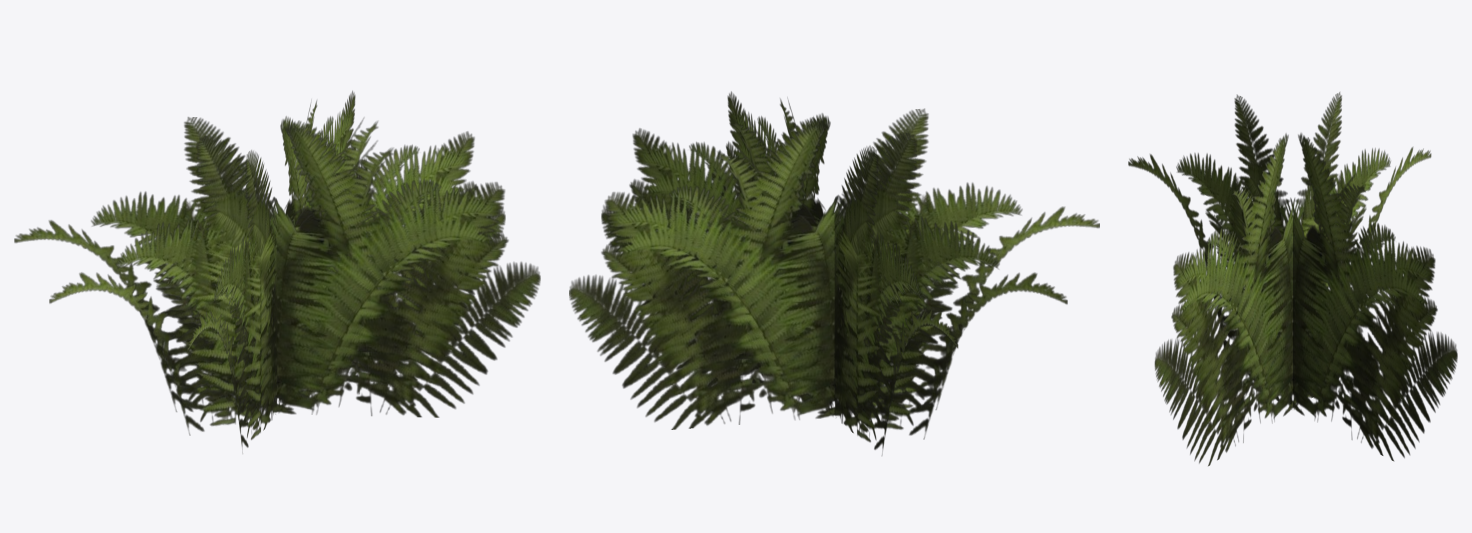
The model's file is plant2.glb.
3 renders of one model, left to right at view 1: azimuth 30°, elevation 25°; view 2: azimuth 150°, elevation 25°; view 3: azimuth 270°, elevation 25°, orthographic. The views are drawn at different scales.
Parts seen in each view (by area): view 1: Plane.002; view 2: Plane.002; view 3: Plane.002.
Part boxes in pixels (box(x1,y1,x2,y2)): Plane.002: box(14, 90, 540, 452); Plane.002: box(569, 91, 1099, 455); Plane.002: box(1128, 92, 1457, 466).
Size of the model in its own units: 3.23 by 2 by 2.07.
1 material, 1 textured.
